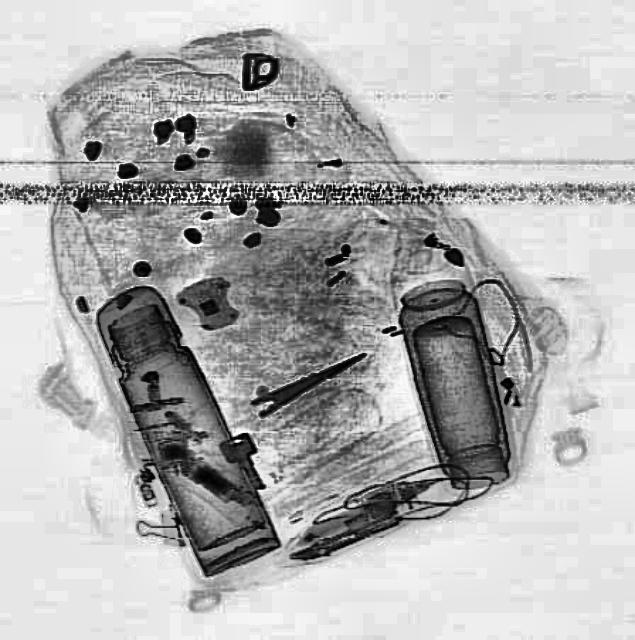Knife: (247, 343, 368, 417)
